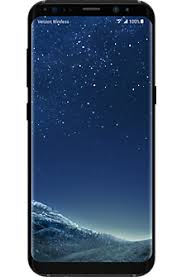samsung: (24, 1, 156, 277)
